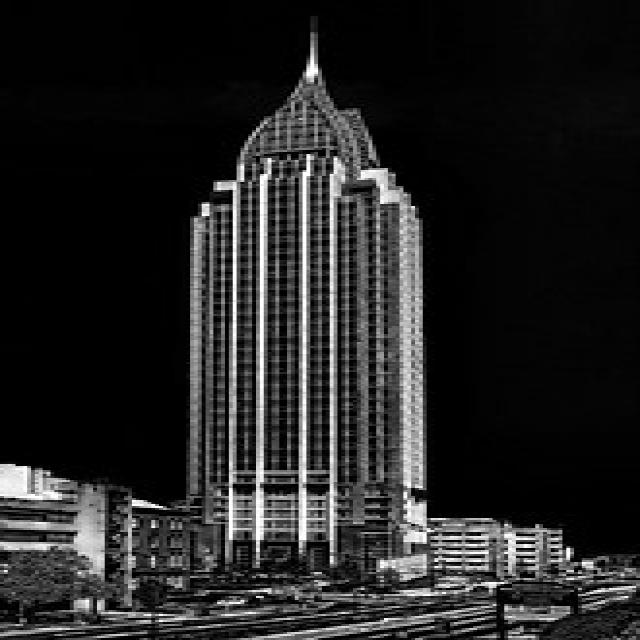building: (167, 73, 434, 589)
